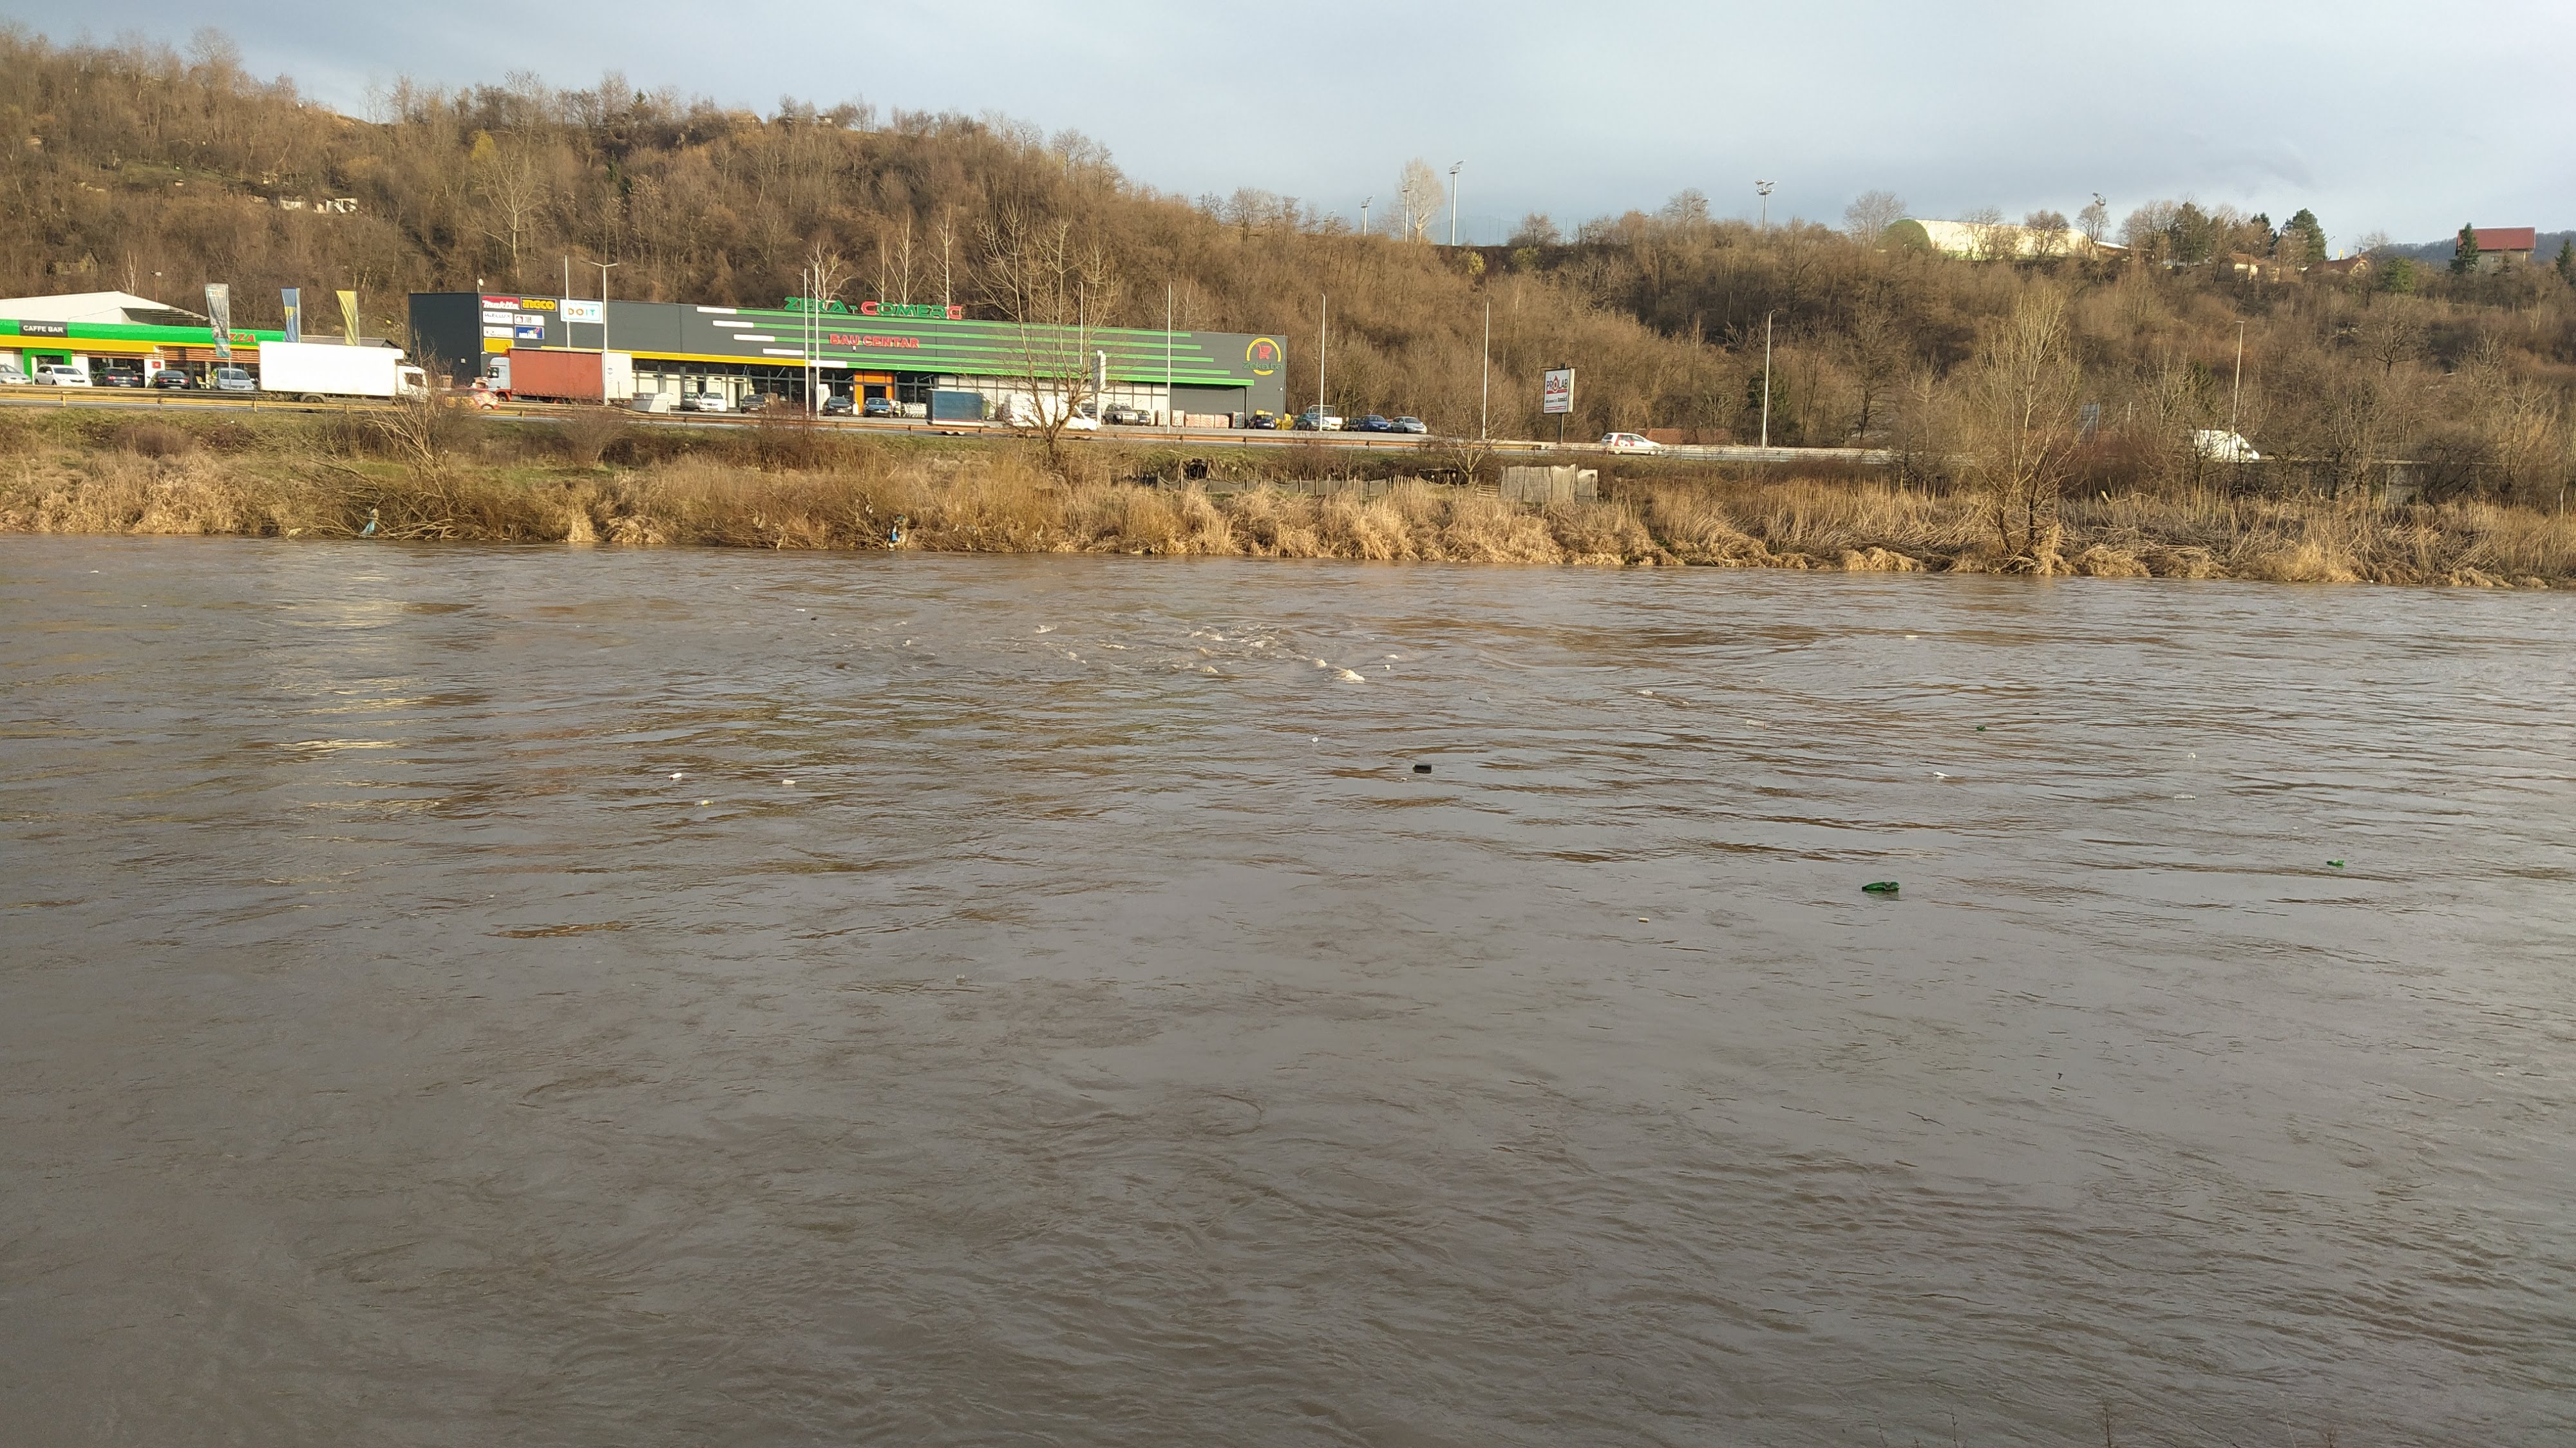Plastic Bottle: (1861, 882, 1898, 892), (2173, 793, 2196, 800), (1468, 694, 1490, 701), (1412, 763, 1431, 770), (1746, 719, 1766, 726), (669, 772, 681, 781), (695, 800, 713, 805), (2327, 860, 2344, 866), (957, 972, 966, 982), (1638, 689, 1652, 694), (1934, 770, 1948, 775), (2187, 752, 2196, 758), (1904, 634, 1916, 637), (1384, 664, 1391, 669), (812, 614, 817, 620), (1976, 726, 1983, 729), (1313, 736, 1316, 742), (88, 570, 97, 572), (796, 609, 803, 611)
